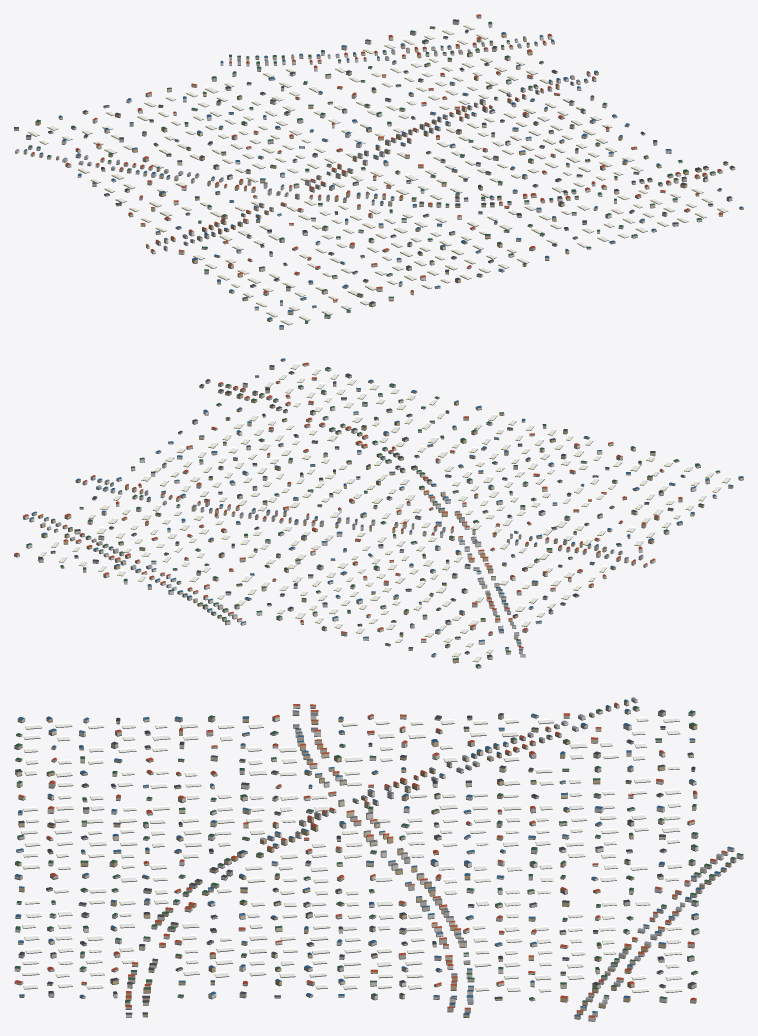
Rendered from buildings_T_W06_N00.glb.
The picture shows the model from 3 angles, top to bottom: view 1: azimuth 30°, elevation 25°; view 2: azimuth 150°, elevation 25°; view 3: azimuth 270°, elevation 25°; orthographic projection. The views are drawn at different scales.
Parts seen in each view (by area): view 1: T_W06_N00_roofs_agri_greenhouse_arch, T_W06_N00_slope_seating_foundations, T_W06_N00_walls_wall_pastel_sand_gray, T_W06_N00_walls_wall_modern_warm_white, T_W06_N00_walls_wall_dalat_cream_stucco, T_W06_N00_walls_wall_french_ochre_villa, T_W06_N00_roofs_roof_terracotta_gable, T_W06_N00_roofs_roof_highland_blue_gable, T_W06_N00_roofs_roof_pine_green_hip, T_W06_N00_roofs_roof_slate_French_villa_hip; view 2: T_W06_N00_roofs_agri_greenhouse_arch, T_W06_N00_slope_seating_foundations, T_W06_N00_walls_wall_modern_warm_white, T_W06_N00_walls_wall_pastel_sand_gray, T_W06_N00_walls_wall_french_ochre_villa, T_W06_N00_walls_wall_dalat_cream_stucco, T_W06_N00_roofs_roof_terracotta_gable, T_W06_N00_roofs_roof_highland_blue_gable, T_W06_N00_roofs_roof_pine_green_hip, T_W06_N00_roofs_roof_slate_French_villa_hip; view 3: T_W06_N00_roofs_agri_greenhouse_arch, T_W06_N00_slope_seating_foundations, T_W06_N00_walls_wall_modern_warm_white, T_W06_N00_walls_wall_pastel_sand_gray, T_W06_N00_walls_wall_french_ochre_villa, T_W06_N00_walls_wall_dalat_cream_stucco, T_W06_N00_roofs_roof_terracotta_gable, T_W06_N00_roofs_roof_highland_blue_gable, T_W06_N00_roofs_roof_pine_green_hip, T_W06_N00_roofs_roof_slate_French_villa_hip, T_W06_N00_roofs_roof_commercial_flat_parapet.
Part boxes in pixels (box(x1,y1,x2,y2)): T_W06_N00_roofs_agri_greenhouse_arch: box(27, 23, 728, 324); T_W06_N00_slope_seating_foundations: box(14, 17, 743, 329); T_W06_N00_walls_wall_pastel_sand_gray: box(14, 15, 732, 318); T_W06_N00_walls_wall_modern_warm_white: box(15, 23, 735, 309); T_W06_N00_walls_wall_dalat_cream_stucco: box(23, 36, 715, 329); T_W06_N00_walls_wall_french_ochre_villa: box(35, 27, 743, 321); T_W06_N00_roofs_roof_terracotta_gable: box(31, 14, 722, 301); T_W06_N00_roofs_roof_highland_blue_gable: box(24, 32, 743, 327); T_W06_N00_roofs_roof_pine_green_hip: box(14, 21, 715, 322); T_W06_N00_roofs_roof_slate_French_villa_hip: box(26, 19, 734, 303); T_W06_N00_roofs_agri_greenhouse_arch: box(38, 362, 730, 661); T_W06_N00_slope_seating_foundations: box(14, 360, 743, 668); T_W06_N00_walls_wall_modern_warm_white: box(23, 364, 716, 656); T_W06_N00_walls_wall_pastel_sand_gray: box(14, 366, 700, 668); T_W06_N00_walls_wall_french_ochre_villa: box(38, 359, 733, 662); T_W06_N00_walls_wall_dalat_cream_stucco: box(31, 372, 743, 656); T_W06_N00_roofs_roof_terracotta_gable: box(14, 362, 682, 647); T_W06_N00_roofs_roof_highland_blue_gable: box(30, 358, 743, 655); T_W06_N00_roofs_roof_pine_green_hip: box(26, 367, 719, 666); T_W06_N00_roofs_roof_slate_French_villa_hip: box(38, 365, 703, 656); T_W06_N00_roofs_agri_greenhouse_arch: box(21, 716, 682, 992); T_W06_N00_slope_seating_foundations: box(14, 700, 743, 1021); T_W06_N00_walls_wall_modern_warm_white: box(14, 698, 743, 1021); T_W06_N00_walls_wall_pastel_sand_gray: box(14, 706, 736, 1012); T_W06_N00_walls_wall_french_ochre_villa: box(15, 713, 731, 1017); T_W06_N00_walls_wall_dalat_cream_stucco: box(14, 701, 706, 1019); T_W06_N00_roofs_roof_terracotta_gable: box(14, 702, 727, 1017); T_W06_N00_roofs_roof_highland_blue_gable: box(15, 699, 733, 1016); T_W06_N00_roofs_roof_pine_green_hip: box(14, 706, 743, 1002); T_W06_N00_roofs_roof_slate_French_villa_hip: box(15, 709, 696, 1014); T_W06_N00_roofs_roof_commercial_flat_parapet: box(292, 710, 466, 999).
Size of the model in its own units: 1949 by 42.81 by 1867.
